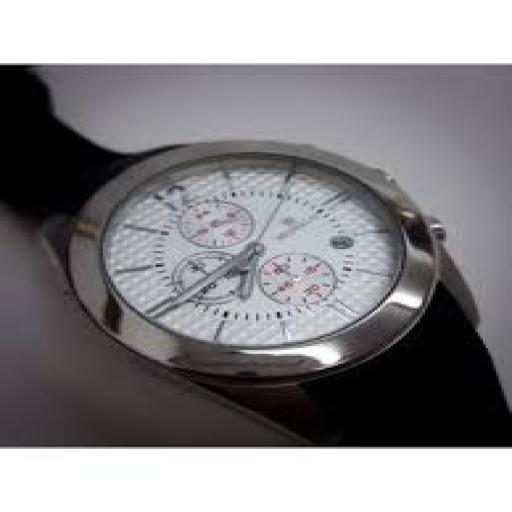KolSaati: (0, 64, 512, 446)
